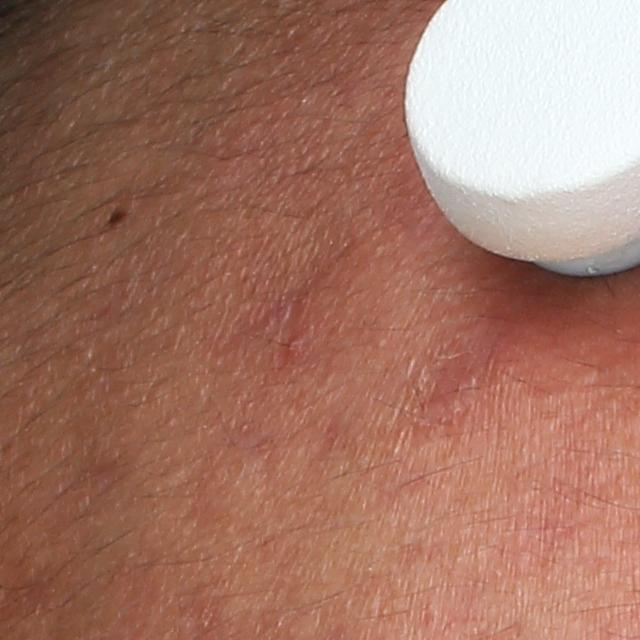nevus: (108, 203, 132, 227)
